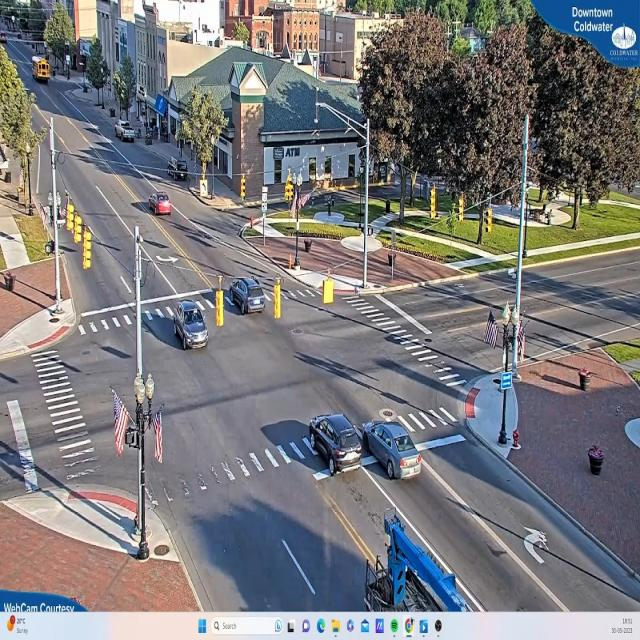car: (361, 421, 424, 481), (308, 414, 365, 476), (228, 266, 269, 332), (175, 300, 210, 349), (117, 122, 137, 144)
